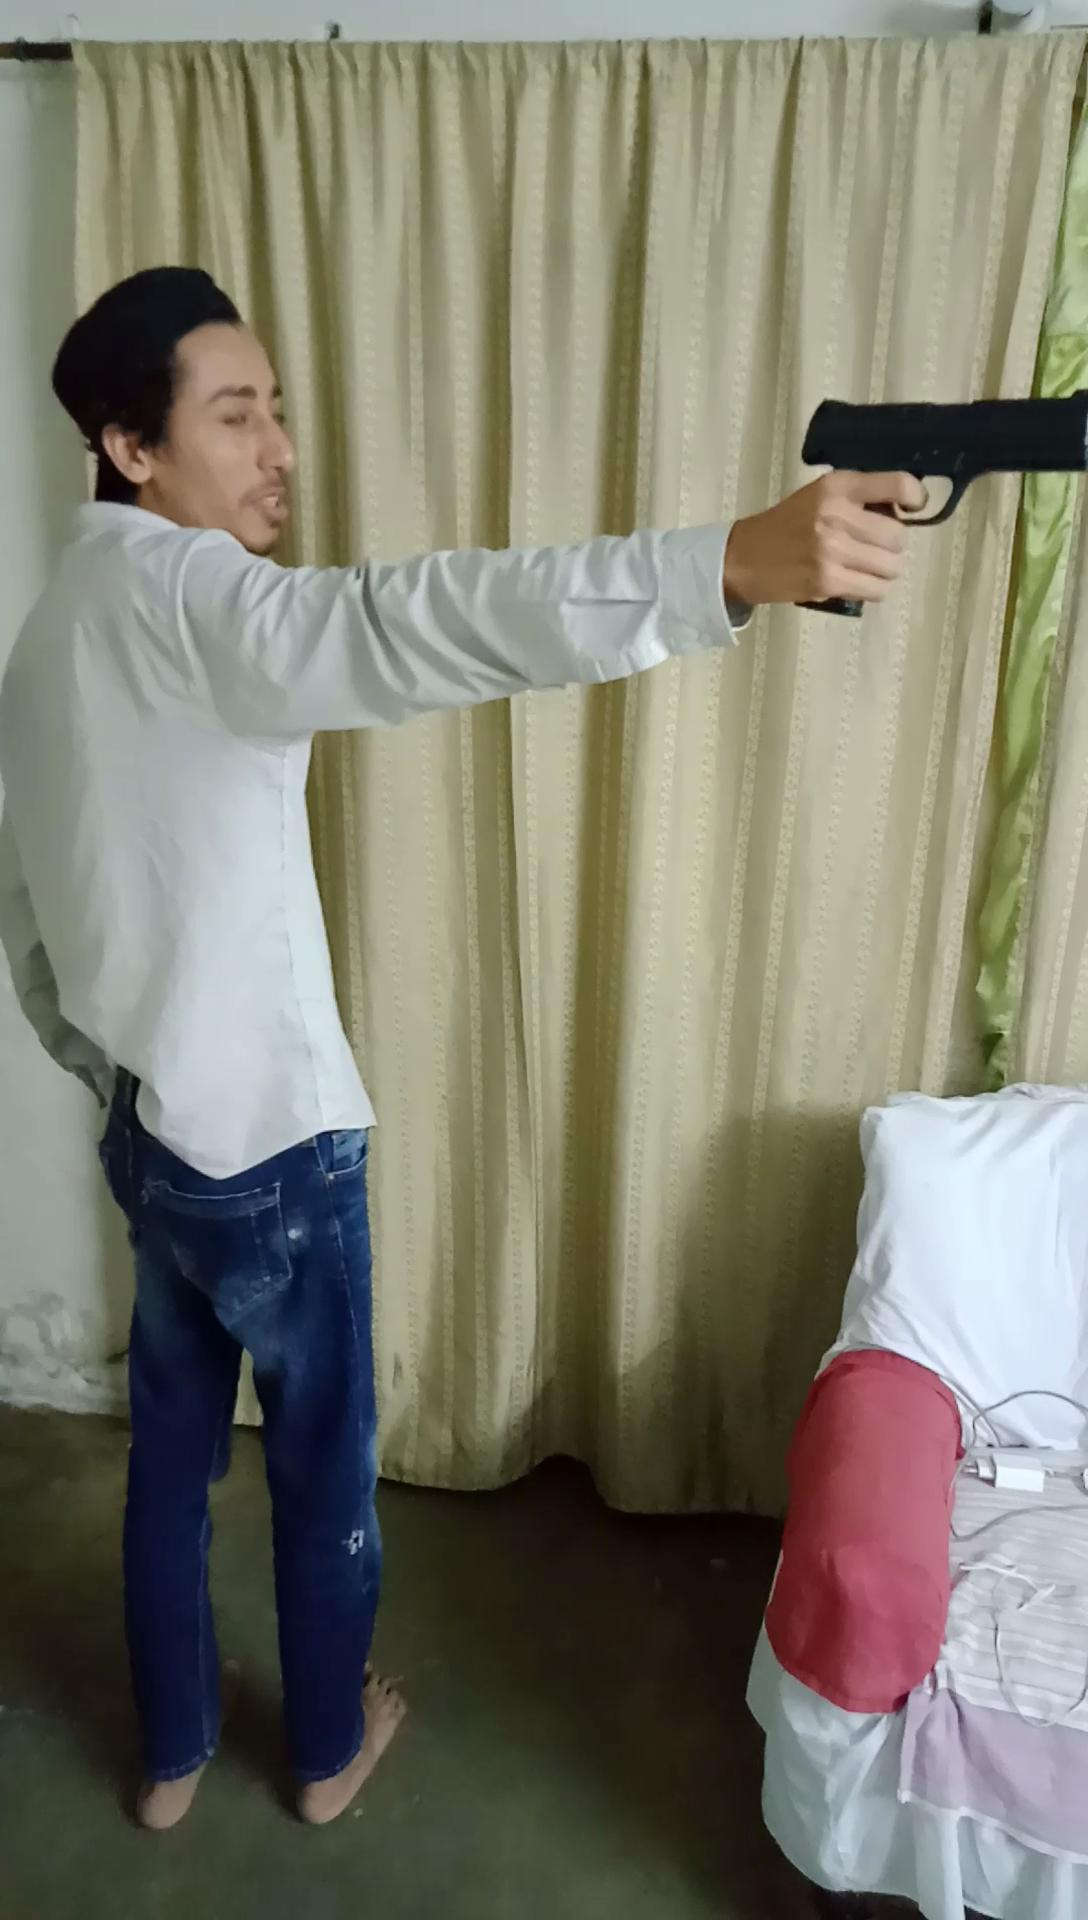criminal: (0, 256, 1088, 1833)
weapon: (775, 376, 1088, 632)
